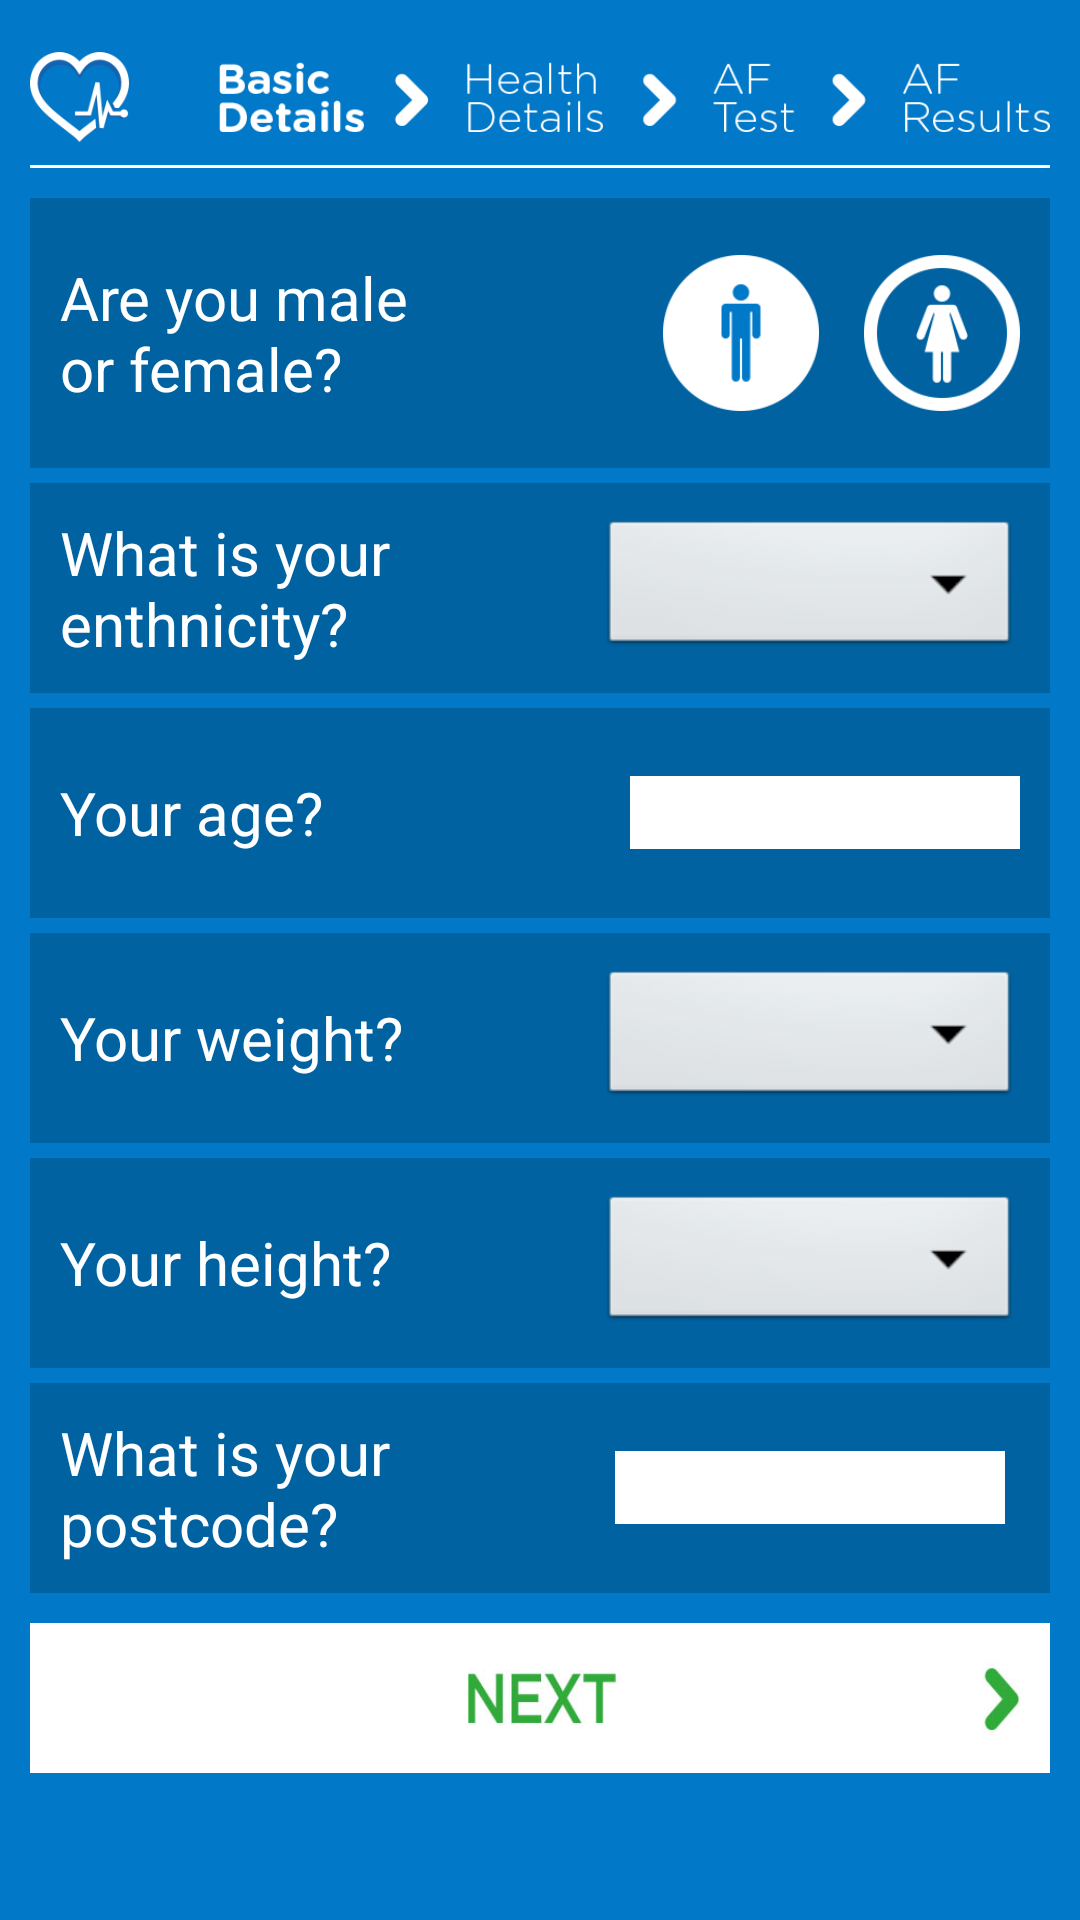

Named icons in this screenshot (1080×1920) and their centers, (x,y):
femalenormal: (942,333)
maleselected: (741,333)
